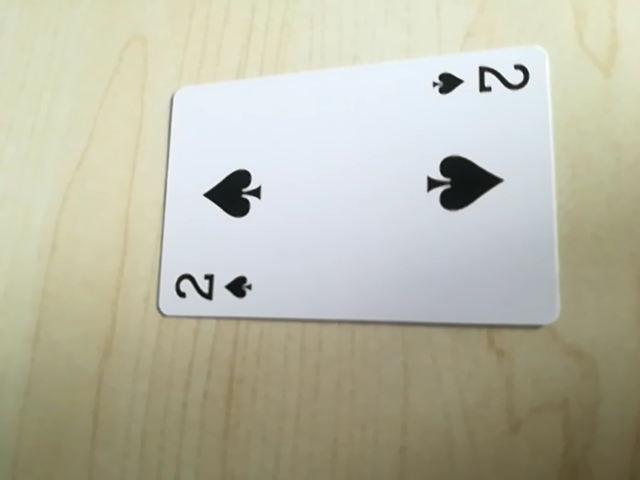ht 2: (426, 55, 536, 106), (167, 265, 258, 309)
